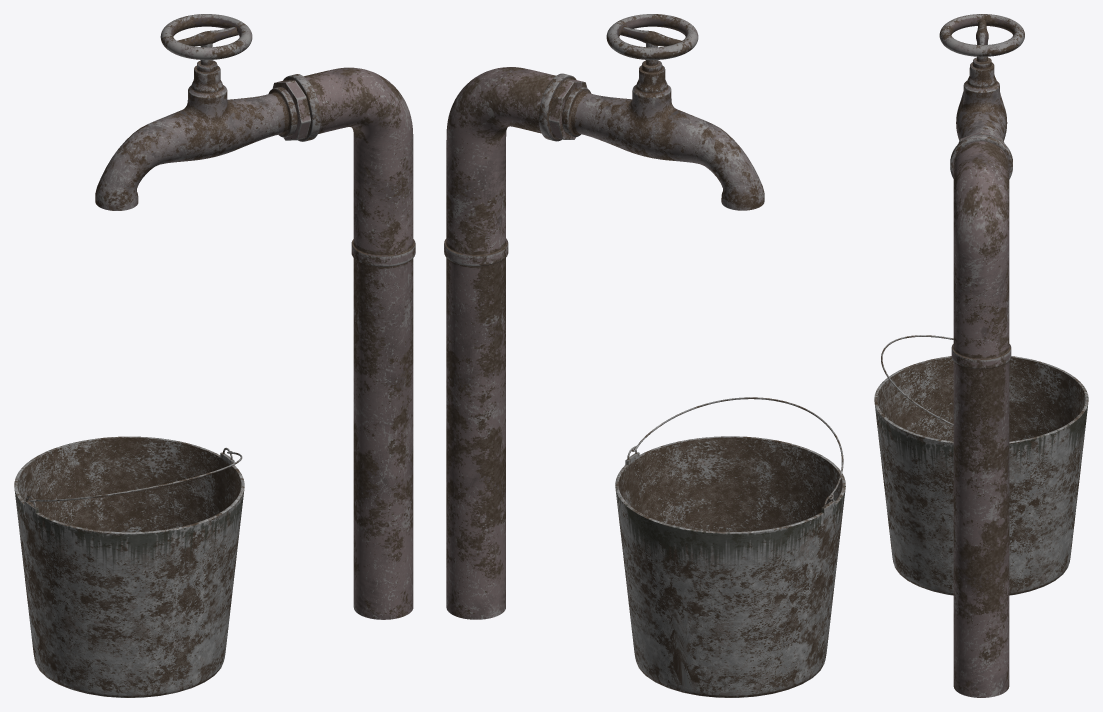
Rendered from old_tap.obj.
The picture shows the model from 3 angles, left to right: view 1: azimuth 30°, elevation 25°; view 2: azimuth 150°, elevation 25°; view 3: azimuth 270°, elevation 25°; orthographic projection. The views are drawn at different scales.
Parts seen in each view (by area): view 1: bucket_Cylinder, pipe_and_top_Cylinder.009, tap_base_Cylinder.000; view 2: bucket_Cylinder, pipe_and_top_Cylinder.009, tap_base_Cylinder.000; view 3: pipe_and_top_Cylinder.009, bucket_Cylinder, tap_base_Cylinder.000.
Part boxes in pixels (bbox=[...]): bucket_Cylinder: bbox=[14, 436, 244, 697]; pipe_and_top_Cylinder.009: bbox=[160, 14, 415, 619]; tap_base_Cylinder.000: bbox=[95, 43, 320, 210]; bucket_Cylinder: bbox=[615, 397, 845, 697]; pipe_and_top_Cylinder.009: bbox=[444, 14, 698, 619]; tap_base_Cylinder.000: bbox=[539, 43, 764, 210]; pipe_and_top_Cylinder.009: bbox=[939, 14, 1024, 697]; bucket_Cylinder: bbox=[874, 335, 1088, 595]; tap_base_Cylinder.000: bbox=[950, 41, 1012, 179].
Bounding box in the file's own units: 6.05 × 9.34 × 3.15.
